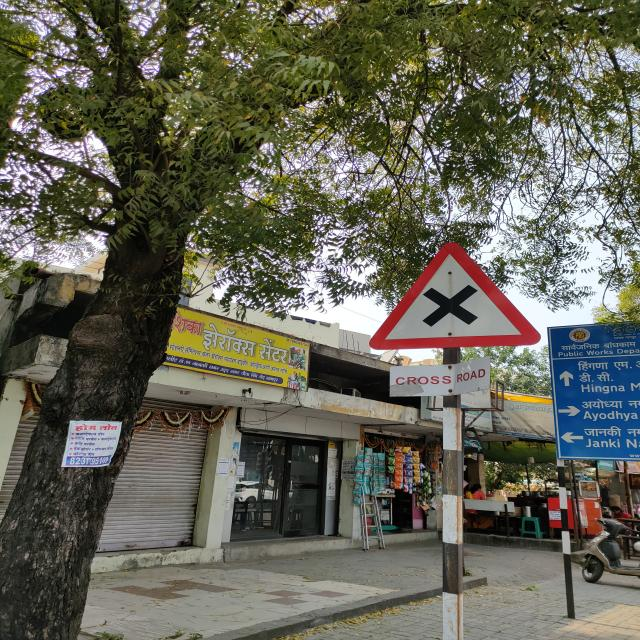cross_road: (368, 239, 541, 352)
